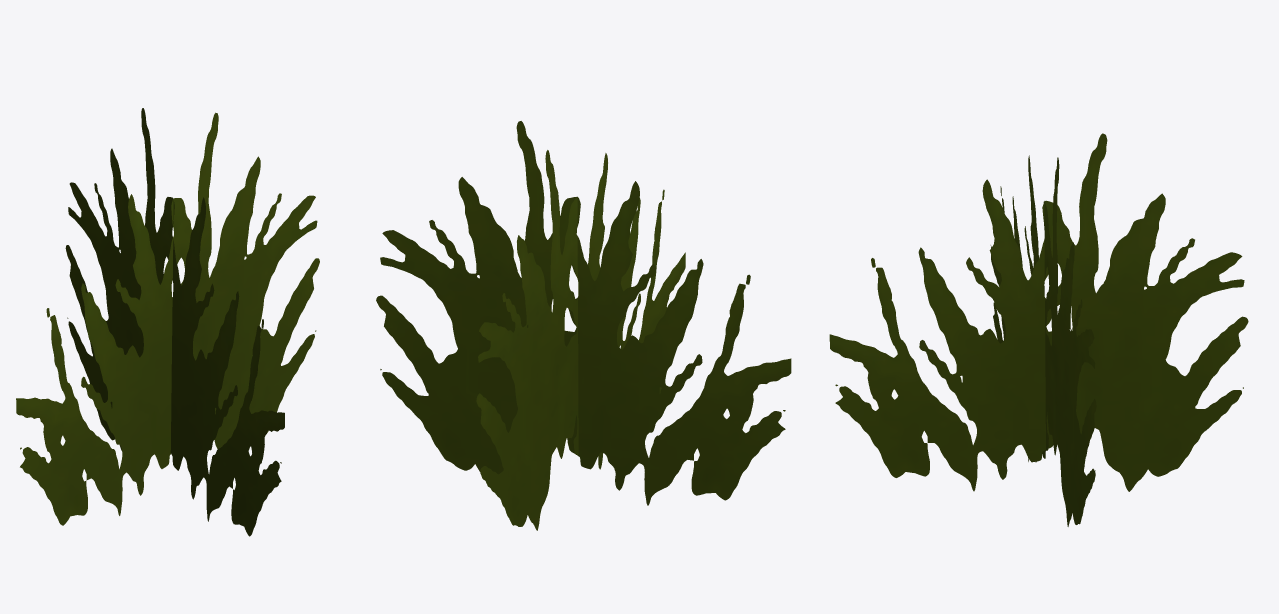
File: KL_cao1.fbx
The picture shows the model from 3 angles, left to right: view 1: azimuth 30°, elevation 25°; view 2: azimuth 150°, elevation 25°; view 3: azimuth 270°, elevation 25°; orthographic projection. The views are drawn at different scales.
Visible parts, largest first — view 1: polySurface1875; view 2: polySurface1875; view 3: polySurface1875.
Part boxes in pixels (x1,y1,x2,y2): polySurface1875: (16,108,319,536); polySurface1875: (376,121,791,530); polySurface1875: (829,133,1248,526).
Bounding box in the file's own units: 0.6941 × 0.7588 × 0.7188.
Materials: 1 (1 with a texture image).
